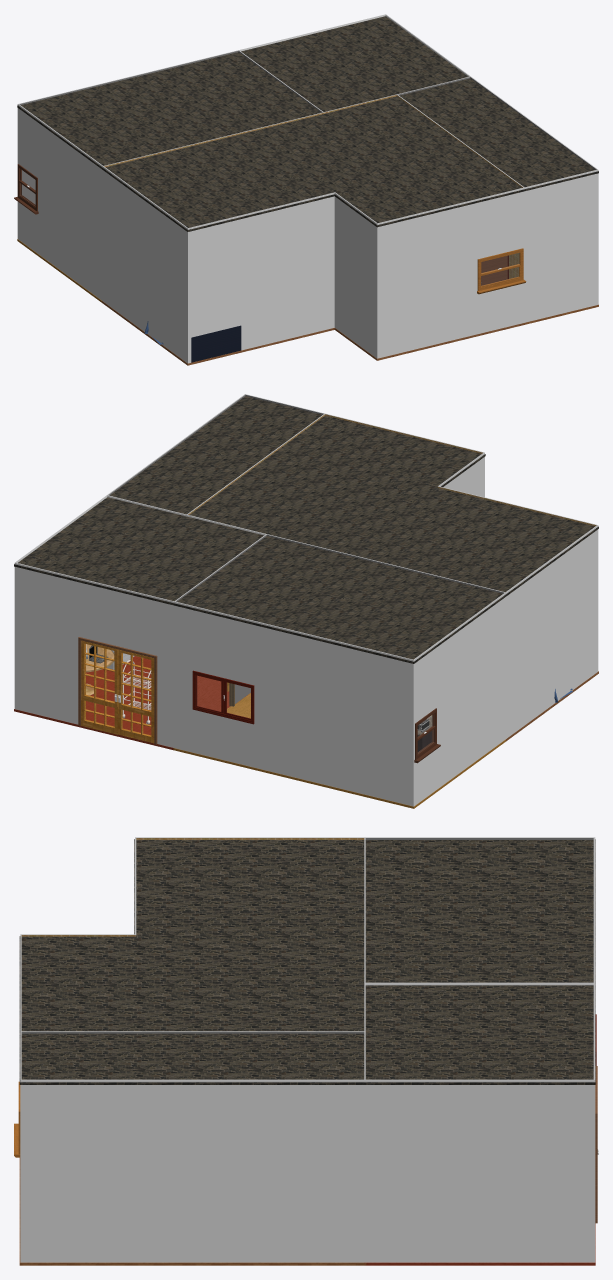
File: ProcTHOR-Train-115.glb
3 renders of one model, top to bottom at view 1: azimuth 30°, elevation 25°; view 2: azimuth 150°, elevation 25°; view 3: azimuth 270°, elevation 25°, orthographic. The views are drawn at different scales.
Parts seen in each view (by area): view 1: Ceiling#room|4|c, WallInside#wall|exterior|5.95|7.94|9.92|7.94, WallInside#wall|exterior|1.98|9.92|5.95|9.92, Ceiling#room|6|c, Ceiling#room|7|c, WallInside#wall|exterior|9.92|3.97|9.92|7.94, WallInside#wall|exterior|9.92|0.00|9.92|3.97, WallInside#wall|exterior|0.00|9.92|1.98|9.92, Ceiling#room|5|c, WallInside#wall|exterior|5.95|7.94|5.95|9.92, Bed_28, Floor#room|4|f (+6 smaller); view 2: Ceiling#room|4|c, WallInside#wall|exterior|3.97|0.00|9.92|0.00, Ceiling#room|6|c, WallInside#wall|exterior|0.00|0.00|3.97|0.00, Ceiling#room|7|c, WallInside#wall|exterior|9.92|3.97|9.92|7.94, WallInside#wall|exterior|9.92|0.00|9.92|3.97, Ceiling#room|5|c, Floor#room|7|f, Doorway_Door_5b, Doorway_Door_5a, Floor#room|6|f (+6 smaller); view 3: WallInside#wall|exterior|0.00|3.97|0.00|9.92, Ceiling#room|4|c, WallInside#wall|exterior|0.00|0.00|0.00|3.97, Ceiling#room|6|c, Ceiling#room|7|c, Ceiling#room|5|c, Floor#room|5|f, WallInside#wall|5|1.98|3.97|1.98|9.92, Floor#room|7|f, WallInside#wall|4|9.92|3.97|9.92|7.94, WallInside#wall|6|9.92|0.00|9.92|3.97, WallInside#wall|7|3.97|0.00|3.97|3.97.
Part boxes in pixels (x1,y1,x2,y2): Ceiling#room|4|c: (102,96,525,231); WallInside#wall|exterior|5.95|7.94|9.92|7.94: (188,192,334,363); WallInside#wall|exterior|1.98|9.92|5.95|9.92: (377,188,524,358); Ceiling#room|6|c: (17,52,320,168); Ceiling#room|7|c: (239,16,467,113); WallInside#wall|exterior|9.92|3.97|9.92|7.94: (103,166,187,363); WallInside#wall|exterior|9.92|0.00|9.92|3.97: (17,104,102,300); WallInside#wall|exterior|0.00|9.92|1.98|9.92: (524,170,598,322); Ceiling#room|5|c: (399,78,598,190); WallInside#wall|exterior|5.95|7.94|5.95|9.92: (334,193,377,358); Bed_28: (144,321,241,362); Floor#room|4|f: (102,301,523,365); Ceiling#room|4|c: (186,415,598,596); WallInside#wall|exterior|3.97|0.00|9.92|0.00: (174,602,413,806); Ceiling#room|6|c: (173,536,505,663); WallInside#wall|exterior|0.00|0.00|3.97|0.00: (14,563,174,747); Ceiling#room|7|c: (14,497,263,605); WallInside#wall|exterior|9.92|3.97|9.92|7.94: (506,525,598,738); WallInside#wall|exterior|9.92|0.00|9.92|3.97: (414,593,506,806); Ceiling#room|5|c: (109,396,321,515); Floor#room|7|f: (14,656,247,749); Doorway_Door_5b: (81,640,118,734); Doorway_Door_5a: (118,649,154,743); Floor#room|6|f: (173,693,505,808); WallInside#wall|exterior|0.00|3.97|0.00|9.92: (20,1080,365,1262); Ceiling#room|4|c: (19,839,366,1033); WallInside#wall|exterior|0.00|0.00|0.00|3.97: (364,1080,594,1262); Ceiling#room|6|c: (364,839,595,983); Ceiling#room|7|c: (364,984,595,1084); Ceiling#room|5|c: (19,1033,366,1084); Floor#room|5|f: (19,1214,366,1265); WallInside#wall|5|1.98|3.97|1.98|9.92: (21,1031,365,1033); Floor#room|7|f: (364,1223,595,1265); WallInside#wall|4|9.92|3.97|9.92|7.94: (135,837,364,839); WallInside#wall|6|9.92|0.00|9.92|3.97: (365,837,593,839); WallInside#wall|7|3.97|0.00|3.97|3.97: (365,983,593,985).
Size of what is drawn, in the model's own units: 10.06 by 3.53 by 10.12.
316 materials, 141 textured.
